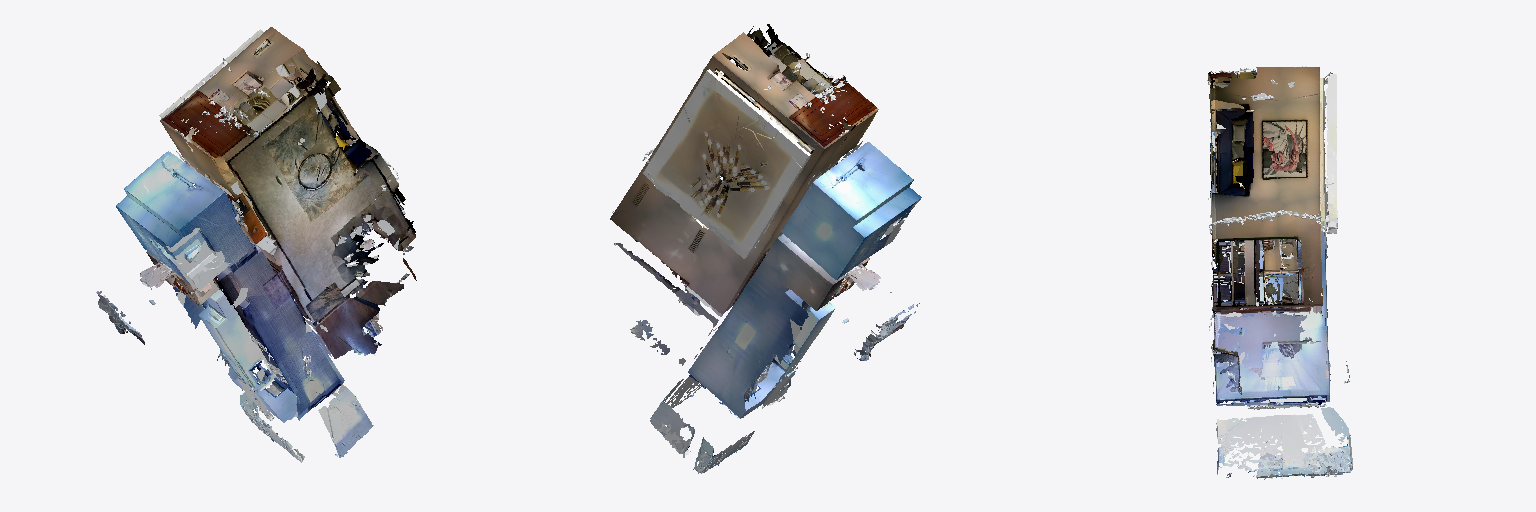
3 renders of one model, left to right at view 1: azimuth 30°, elevation 25°; view 2: azimuth 150°, elevation 25°; view 3: azimuth 270°, elevation 25°, orthographic.
Size of the model in its own units: 6.87 by 9.74 by 3.12.
Materials: 11 (11 with a texture image).